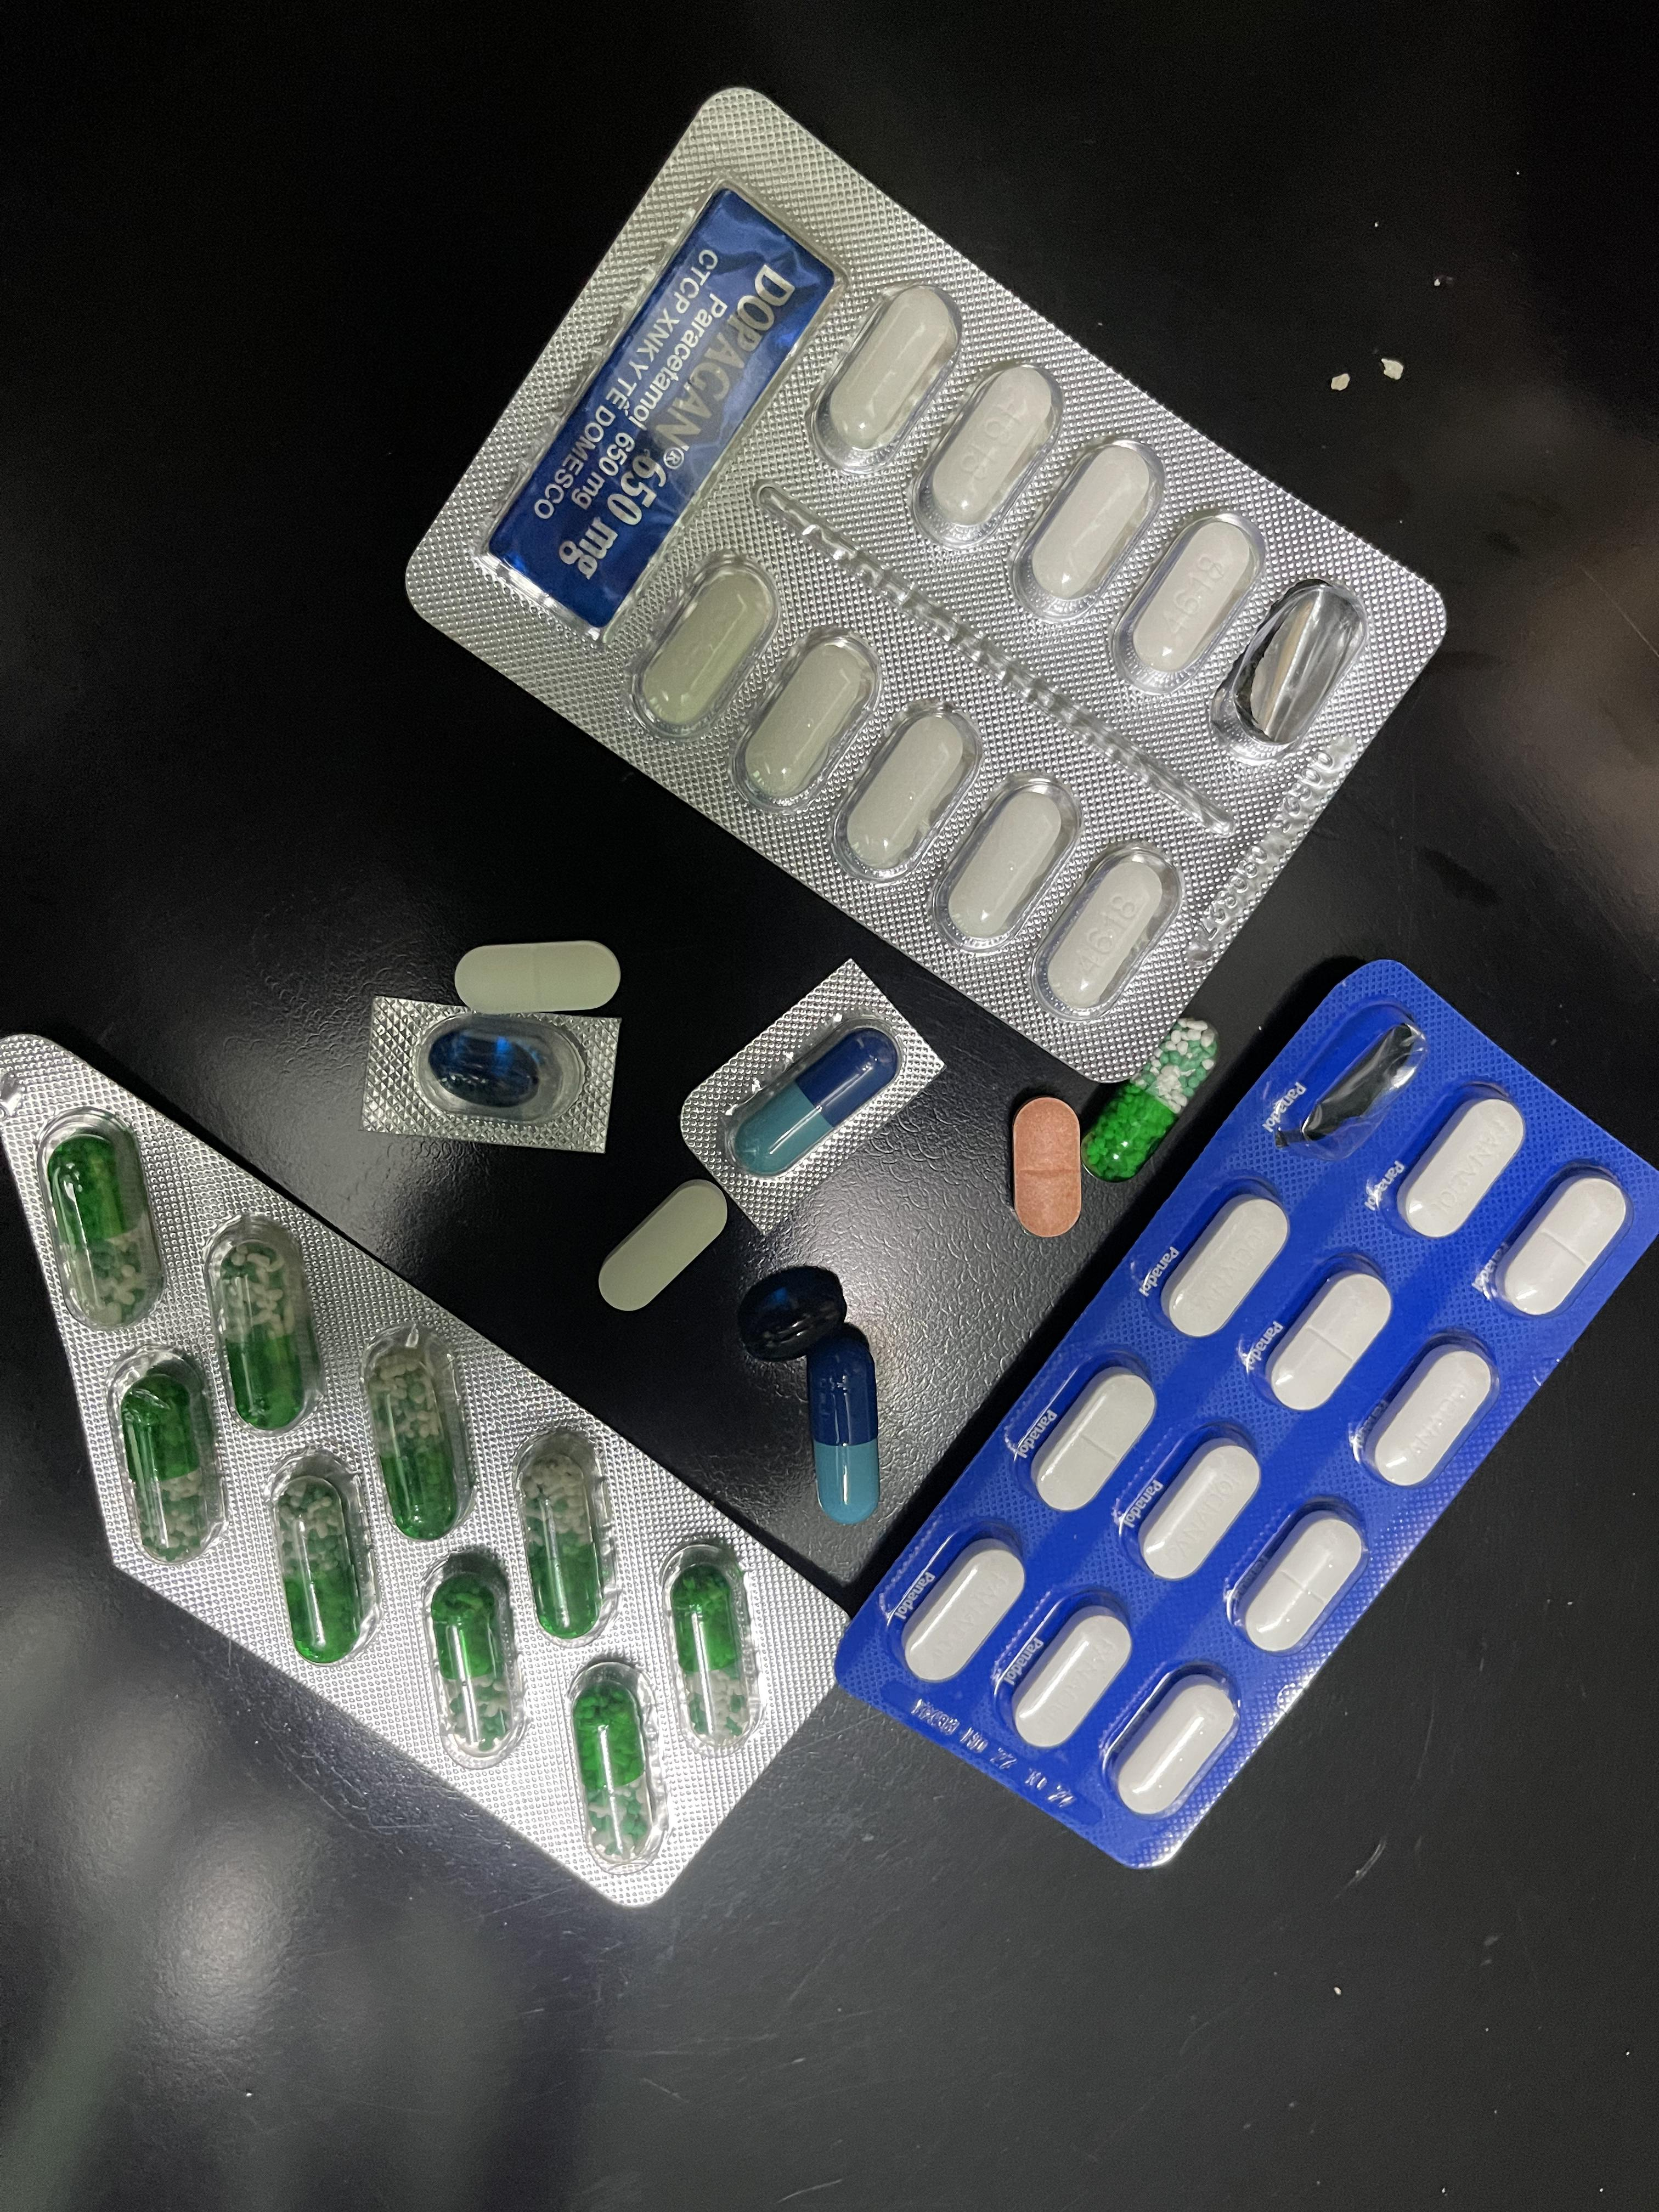Lincomyxin_500mg: (734, 1263, 845, 1360), (427, 1028, 549, 1108)
Loratadine_10mg: (1011, 1097, 1084, 1237)
Paracetamol_350mg: (1232, 1498, 1370, 1658), (1361, 1336, 1499, 1493), (1493, 1169, 1635, 1317), (1396, 1090, 1530, 1240), (1265, 1263, 1396, 1414), (1112, 1669, 1241, 1820), (1162, 1191, 1290, 1343), (1136, 1435, 1263, 1585), (901, 1534, 1026, 1686), (1009, 1602, 1133, 1754), (1033, 1366, 1157, 1515), (451, 939, 624, 1008)
Paracetamol_500mg: (627, 552, 779, 747), (1112, 505, 1267, 691), (807, 280, 957, 472), (910, 359, 1060, 547), (828, 697, 979, 881), (1009, 437, 1159, 622), (929, 773, 1082, 949), (1030, 840, 1183, 1010), (739, 636, 875, 798), (594, 1181, 725, 1312)
Paracetamol_650mg: (108, 1348, 228, 1564), (204, 1219, 324, 1433), (268, 1451, 380, 1667), (422, 1554, 525, 1770), (516, 1430, 617, 1635), (662, 1540, 760, 1752), (49, 1136, 157, 1325), (1080, 1026, 1215, 1176), (371, 1350, 462, 1534), (575, 1677, 652, 1860)
pill: (727, 1021, 890, 1176), (814, 1331, 882, 1521)
